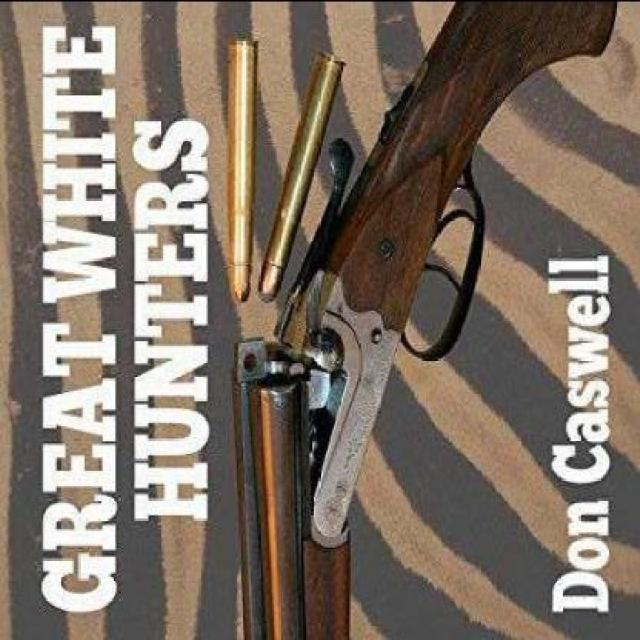Rifle: (231, 0, 617, 637)
